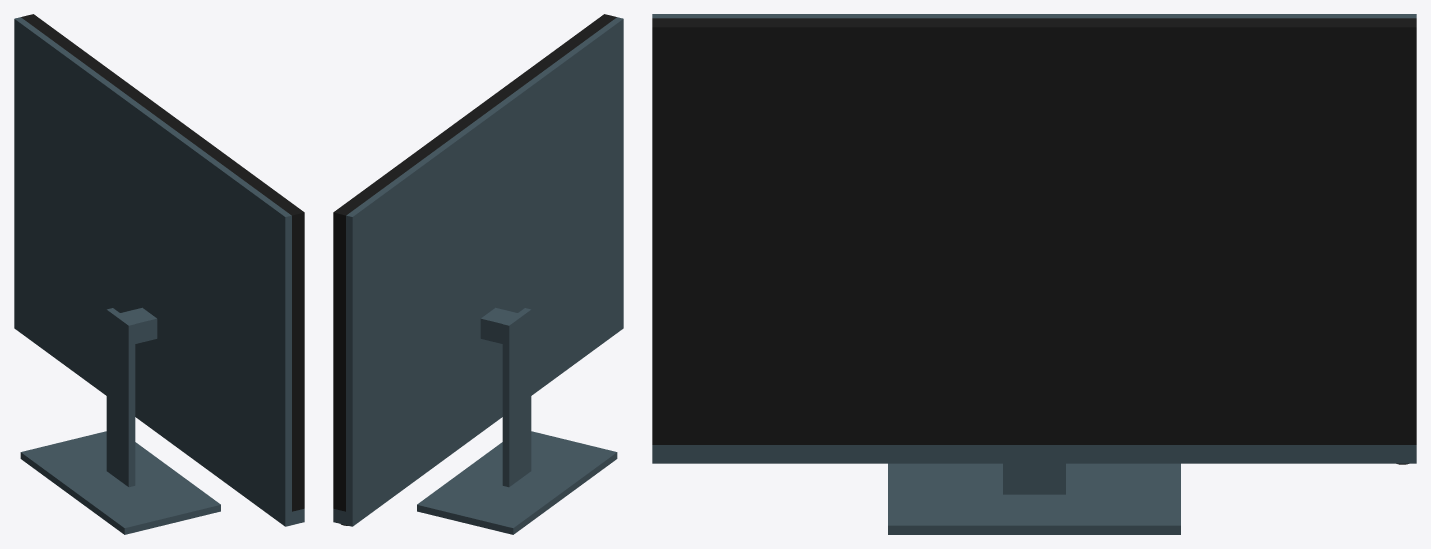
File: monitor_it.obj
3 views of the same model, side by side, from view 1: azimuth 30°, elevation 25°; view 2: azimuth 150°, elevation 25°; view 3: azimuth 270°, elevation 25° (orthographic). The views are drawn at different scales.
Visible parts, largest first — view 1: group584550715, group742467431, group941242678, group76221598, group1661024036; view 2: group584550715, group742467431, group941242678, group76221598, group1661024036; view 3: group941242678, group742467431, group1929904233, group584550715, group76221598.
Boxes of the visible parts, <box> form: group584550715: <box>14,17,291,526</box>; group742467431: <box>20,431,220,534</box>; group941242678: <box>21,14,304,511</box>; group76221598: <box>106,308,135,487</box>; group1661024036: <box>120,307,157,343</box>; group584550715: <box>346,17,623,526</box>; group742467431: <box>417,431,617,534</box>; group941242678: <box>333,14,616,511</box>; group76221598: <box>502,308,531,487</box>; group1661024036: <box>480,307,517,343</box>; group941242678: <box>652,18,1416,444</box>; group742467431: <box>888,463,1180,534</box>; group1929904233: <box>652,445,1416,463</box>; group584550715: <box>652,14,1416,18</box>; group76221598: <box>1003,463,1065,494</box>.
Size of the model in its own units: 0.15 by 0.535 by 0.73.
